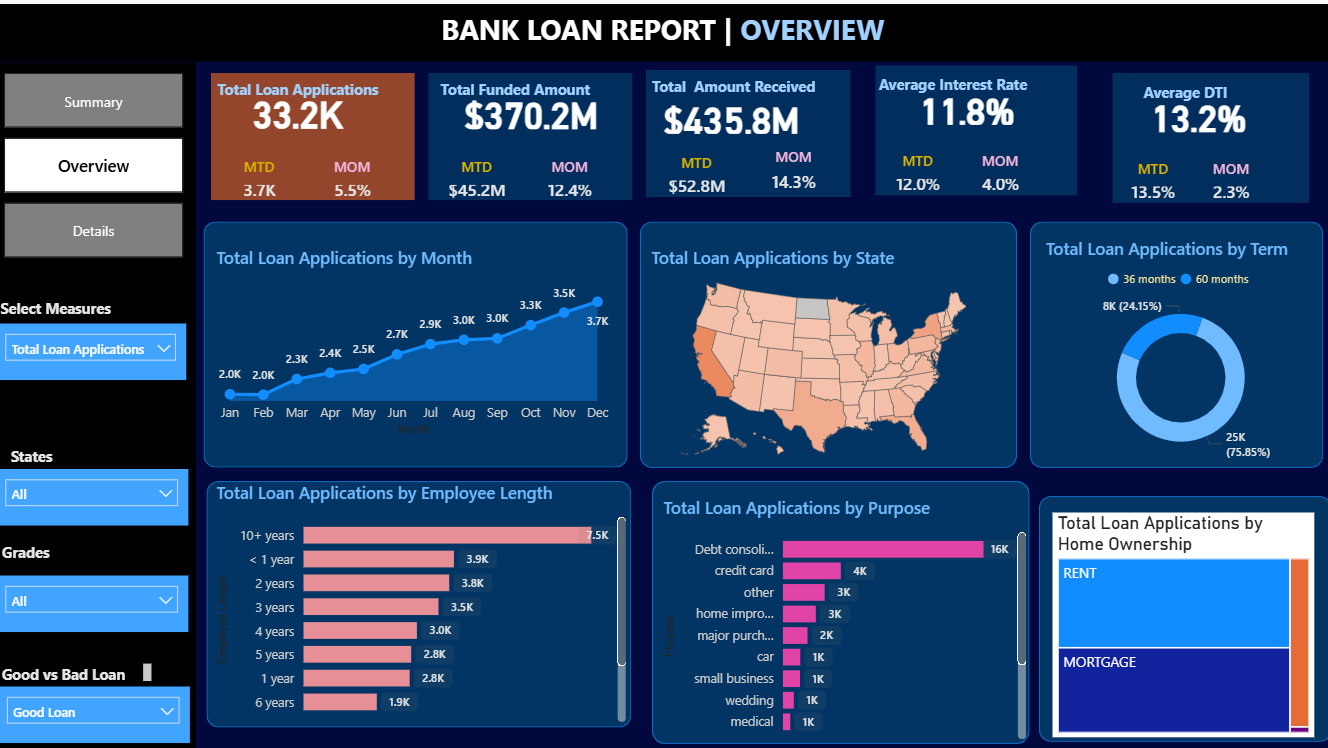

What the dashboard file says about the page in this screenshot:
{"tool":"powerbi","page":{"name":"Overview","canvas":[1280,720],"ordinal":1},"visuals":[{"type":"shape","box":[0,0,1280.4,55],"z":0},{"type":"shape","box":[0,55.7,192,665],"z":1000},{"type":"textbox","box":[421.5,0,439,54.1],"z":2000},{"type":"shape","box":[840.7,58.9,192.5,124.1],"z":3000,"group":"g4"},{"type":"shape","box":[622.1,64.1,195.4,121.5],"z":3000,"group":"g3"},{"type":"group","id":"g1","title":"Group 1","box":[133.6,65.2,311.8,122.5],"z":3000},{"type":"shape","box":[206.6,65.7,194.4,121.5],"z":3000,"group":"g1"},{"type":"shape","box":[414.2,65.7,194.4,121.5],"z":3000,"group":"g5"},{"type":"shape","box":[1066.9,66.2,187.7,124.1],"z":3000,"group":"g6"},{"type":"group","id":"g2","title":"Group 1","box":[341.2,65.2,311.8,122.5],"z":4000},{"type":"card","fields":{"Values":["financial_loan.Average Interest Rate"]},"box":[854.9,78.9,145.4,41.4],"z":4000,"group":"g4"},{"type":"card","fields":{"Values":["financial_loan.Total Loan Applications"]},"box":[222.8,79.8,133.7,44.6],"z":4000,"group":"g1"},{"type":"card","fields":{"Values":["financial_loan.Total Funded Amount"]},"box":[429.8,83,163.8,41.4],"z":4000,"group":"g5"},{"type":"card","fields":{"Values":["financial_loan.Avg DTI"]},"box":[1079.9,86.2,137.9,41.4],"z":4000,"group":"g6"},{"type":"card","fields":{"Values":["financial_loan.Total Amount Received"]},"box":[620.8,88.1,165.4,41.4],"z":4000,"group":"g3"},{"type":"textbox","box":[776.2,61.1,276.8,36.6],"z":5000,"group":"g4"},{"type":"textbox","box":[548.8,63.6,313.4,36.6],"z":5000,"group":"g3"},{"type":"textbox","box":[133.6,65.2,311.8,36.6],"z":5000,"group":"g1"},{"type":"textbox","box":[341.2,65.2,311.8,36.6],"z":5000,"group":"g5"},{"type":"textbox","box":[1005.3,68.4,262.5,36.6],"z":5000,"group":"g6"},{"type":"shape","box":[198.8,208.4,405,235],"z":5000},{"type":"group","id":"g3","title":"Group 2","box":[548.8,63.6,313.4,126.3],"z":6000},{"type":"card","title":"MTD","fields":{"Values":["financial_loan.MTD Avg Interest Rate"]},"box":[848.2,140.7,66.4,41.4],"z":6000,"group":"g4"},{"type":"card","title":"MTD","fields":{"Values":["financial_loan.MTD Total Amount Received"]},"box":[631.9,142.1,76.3,41.4],"z":6000,"group":"g3"},{"type":"card","title":"MTD","fields":{"Values":["financial_loan.MTD Loan Applications"]},"box":[214.7,144.7,74.8,41.4],"z":6000,"group":"g1"},{"type":"card","title":"MTD","fields":{"Values":["financial_loan.MTD Funded Amount"]},"box":[422.3,144.7,74.8,41.4],"z":6000,"group":"g5"},{"type":"card","title":"MTD","fields":{"Values":["financial_loan.MTD Avg DTI"]},"box":[1073.6,148,62.9,41.4],"z":6000,"group":"g6"},{"type":"group","id":"g4","title":"Group 2","box":[776.2,58.9,276.8,124.1],"z":7000},{"type":"card","title":"MOM","fields":{"Values":["financial_loan.MOM Total Amount Received"]},"box":[728.9,137.4,66.8,52.5],"z":7000,"group":"g3"},{"type":"card","title":"MOM","fields":{"Values":["financial_loan.MOM Avg Interest Rate"]},"box":[927.3,140.7,66.4,41.4],"z":7000,"group":"g4"},{"type":"card","title":"MOM","fields":{"Values":["financial_loan.MOM Loan Applications"]},"box":[303.8,144.7,74.8,41.4],"z":7000,"group":"g1"},{"type":"card","title":"MOM","fields":{"Values":["financial_loan.MOM Total Funded Amount"]},"box":[511.4,144.7,74.8,41.4],"z":7000,"group":"g5"},{"type":"card","title":"MOM","fields":{"Values":["financial_loan.MOM Avg DTI"]},"box":[1148.6,148,62.9,41.4],"z":7000,"group":"g6"},{"type":"group","id":"g5","title":"Group 2","box":[341.2,65.2,311.8,122],"z":7003,"group":"g2"},{"type":"group","id":"g6","title":"Group 2","box":[1005.3,66.2,262.5,124.1],"z":8000},{"type":"slicer","fields":{"Values":["financial_loan.address_state"]},"box":[0,443.8,184.5,54.1],"z":9000},{"type":"textbox","box":[0,275.2,120.9,31.8],"z":10000},{"type":"slicer","fields":{"Values":["financial_loan.grade"]},"box":[0,545.6,184.5,54.1],"z":11000},{"type":"textbox","box":[1.6,509,68.4,36.6],"z":12000},{"type":"slicer","fields":{"Values":["financial_loan.Good Loan vs Bad Loan"]},"box":[1.6,652.2,184.5,54.1],"z":13000},{"type":"textbox","box":[1.6,625.1,152.7,27],"z":14000},{"type":"slicer","fields":{"Values":["Select Measure.Select Measure"]},"box":[0,305.4,182.9,54.1],"z":15000},{"type":"textbox","box":[10,417.2,68.4,36.6],"z":16000},{"type":"areaChart","fields":{"Category":["Date Table.Month"],"Y":["financial_loan.Total Loan Applications"]},"box":[206.8,230.6,386.5,186.1],"z":17000},{"type":"shape","box":[615.6,208.4,360,235.4],"z":18000},{"type":"shapeMap","fields":{"Category":["financial_loan.address_state"],"Value":["financial_loan.Total Loan Applications"]},"box":[621.9,230.6,338.8,213.1],"z":19000},{"type":"shape","box":[987.8,208.4,279.9,235.4],"z":20000},{"type":"donutChart","fields":{"Category":["financial_loan.term"],"Y":["financial_loan.Total Loan Applications"]},"box":[998.9,222.7,267.2,221.1],"z":21000},{"type":"shape","box":[202,454.9,405.6,235.4],"z":22000},{"type":"barChart","fields":{"Category":["financial_loan.emp_length"],"Y":["financial_loan.Total Loan Applications"]},"box":[206.6,455.7,401,234.9],"z":23000},{"type":"shape","box":[627.8,455.7,360.5,251.1],"z":24000},{"type":"barChart","fields":{"Category":["financial_loan.purpose"],"Y":["financial_loan.Total Loan Applications"]},"box":[633.1,469.2,356.3,237],"z":25000},{"type":"shape","box":[996.5,469.9,279.5,234.9],"z":26000},{"type":"treemap","fields":{"Group":["financial_loan.home_ownership"],"Values":["financial_loan.Total Loan Applications"]},"box":[1010,485.1,249.7,214.7],"z":27000},{"type":"pageNavigator","box":[8,65.2,171.8,176.6],"z":28000}]}

Visuals, with their boxes in screenshot pixels (x1, y1, x2, y2), scaled from the page's 1280x720 canvas onto the 1328x748 screenshot:
shape: x1=0 y1=0 x2=1327 y2=57
shape: x1=0 y1=58 x2=199 y2=747
textbox: x1=437 y1=0 x2=893 y2=56
shape: x1=872 y1=61 x2=1072 y2=190
shape: x1=645 y1=67 x2=848 y2=193
"Group 1" group: x1=139 y1=68 x2=462 y2=195
shape: x1=214 y1=68 x2=416 y2=194
shape: x1=430 y1=68 x2=631 y2=194
shape: x1=1107 y1=69 x2=1302 y2=198
"Group 1" group: x1=354 y1=68 x2=677 y2=195
card - financial_loan.Average Interest Rate: x1=887 y1=82 x2=1038 y2=125
card - financial_loan.Total Loan Applications: x1=231 y1=83 x2=370 y2=129
card - financial_loan.Total Funded Amount: x1=446 y1=86 x2=616 y2=129
card - financial_loan.Avg DTI: x1=1120 y1=90 x2=1263 y2=133
card - financial_loan.Total Amount Received: x1=644 y1=92 x2=816 y2=135
textbox: x1=805 y1=63 x2=1092 y2=101
textbox: x1=569 y1=66 x2=895 y2=104
textbox: x1=139 y1=68 x2=462 y2=106
textbox: x1=354 y1=68 x2=677 y2=106
textbox: x1=1043 y1=71 x2=1315 y2=109
shape: x1=206 y1=217 x2=626 y2=461
"Group 2" group: x1=569 y1=66 x2=895 y2=197
"MTD" card: x1=880 y1=146 x2=949 y2=189
"MTD" card: x1=656 y1=148 x2=735 y2=191
"MTD" card: x1=223 y1=150 x2=300 y2=193
"MTD" card: x1=438 y1=150 x2=516 y2=193
"MTD" card: x1=1114 y1=154 x2=1179 y2=197
"Group 2" group: x1=805 y1=61 x2=1092 y2=190
"MOM" card: x1=756 y1=143 x2=826 y2=197
"MOM" card: x1=962 y1=146 x2=1031 y2=189
"MOM" card: x1=315 y1=150 x2=393 y2=193
"MOM" card: x1=531 y1=150 x2=608 y2=193
"MOM" card: x1=1192 y1=154 x2=1257 y2=197
"Group 2" group: x1=354 y1=68 x2=677 y2=194
"Group 2" group: x1=1043 y1=69 x2=1315 y2=198
slicer - financial_loan.address_state: x1=0 y1=461 x2=191 y2=517
textbox: x1=0 y1=286 x2=125 y2=319
slicer - financial_loan.grade: x1=0 y1=567 x2=191 y2=623
textbox: x1=2 y1=529 x2=73 y2=567
slicer - financial_loan.Good Loan vs Bad Loan: x1=2 y1=678 x2=193 y2=734
textbox: x1=2 y1=649 x2=160 y2=677
slicer - Select Measure.Select Measure: x1=0 y1=317 x2=190 y2=373
textbox: x1=10 y1=433 x2=81 y2=471
areaChart - Date Table.Month x financial_loan.Total Loan Applications: x1=215 y1=240 x2=616 y2=433
shape: x1=639 y1=217 x2=1012 y2=461
shapeMap - financial_loan.address_state x financial_loan.Total Loan Applications: x1=645 y1=240 x2=997 y2=461
shape: x1=1025 y1=217 x2=1315 y2=461
donutChart - financial_loan.term x financial_loan.Total Loan Applications: x1=1036 y1=231 x2=1314 y2=461
shape: x1=210 y1=473 x2=630 y2=717
barChart - financial_loan.emp_length x financial_loan.Total Loan Applications: x1=214 y1=473 x2=630 y2=717
shape: x1=651 y1=473 x2=1025 y2=734
barChart - financial_loan.purpose x financial_loan.Total Loan Applications: x1=657 y1=487 x2=1027 y2=734
shape: x1=1034 y1=488 x2=1324 y2=732
treemap - financial_loan.home_ownership x financial_loan.Total Loan Applications: x1=1048 y1=504 x2=1307 y2=727
pageNavigator: x1=8 y1=68 x2=187 y2=251
